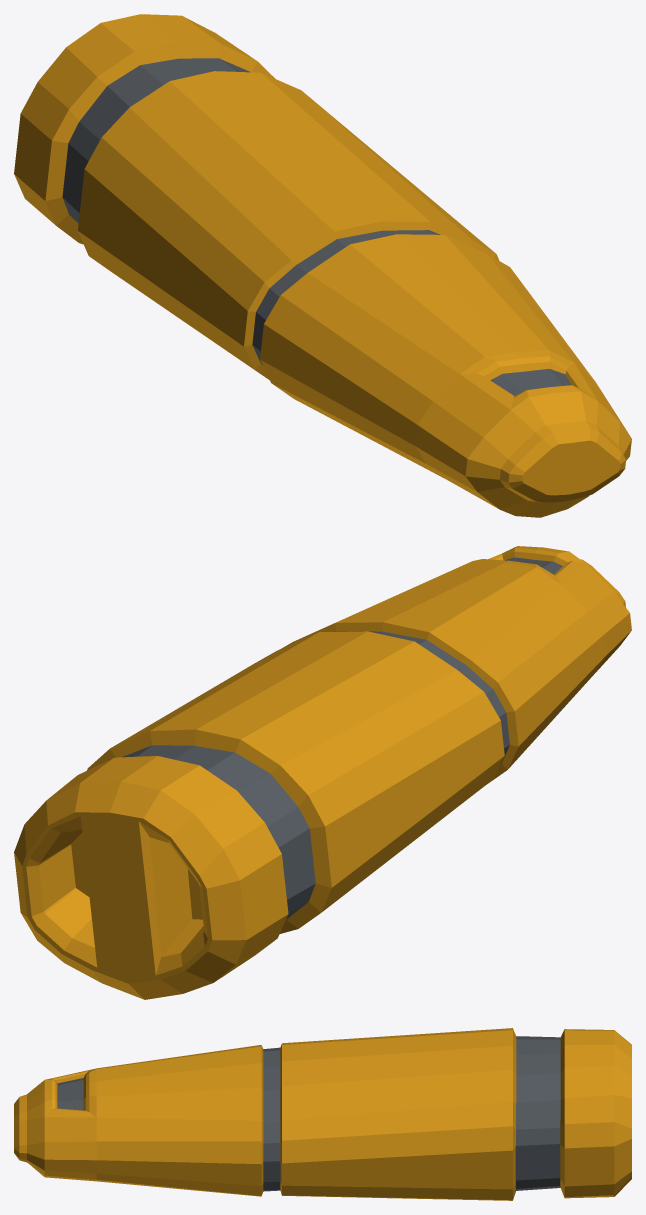
File: Fighter_02_Thruster_Yellow.fbx
The picture shows the model from 3 angles, top to bottom: view 1: azimuth 30°, elevation 25°; view 2: azimuth 150°, elevation 25°; view 3: azimuth 270°, elevation 25°; orthographic projection. The views are drawn at different scales.
Parts seen in each view (by area): view 1: Fighter_02_Thruster_Yellow; view 2: Fighter_02_Thruster_Yellow; view 3: Fighter_02_Thruster_Yellow.
Part boxes in pixels (x1=…): Fighter_02_Thruster_Yellow: x1=14, y1=14, x2=631, y2=517; Fighter_02_Thruster_Yellow: x1=14, y1=546, x2=631, y2=999; Fighter_02_Thruster_Yellow: x1=14, y1=1028, x2=631, y2=1200.
Size of the model in its own units: 156 by 122 by 467.
2 materials, 2 textured.
